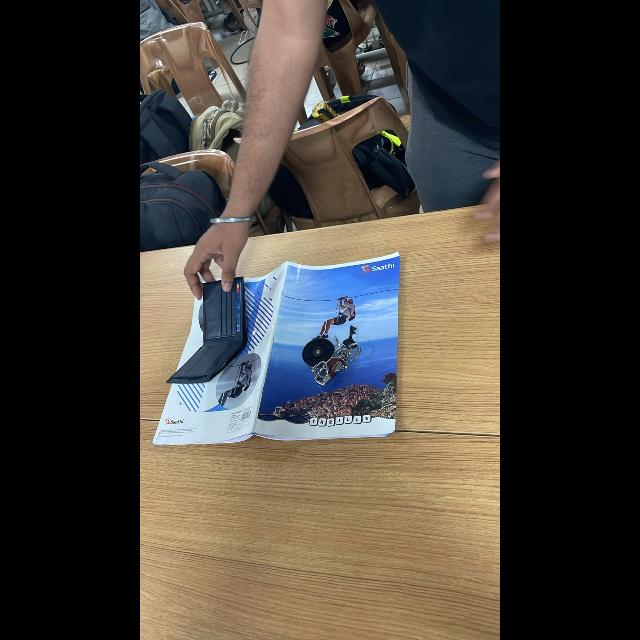keys: (284, 302, 362, 400)
wallet: (172, 275, 264, 389)
